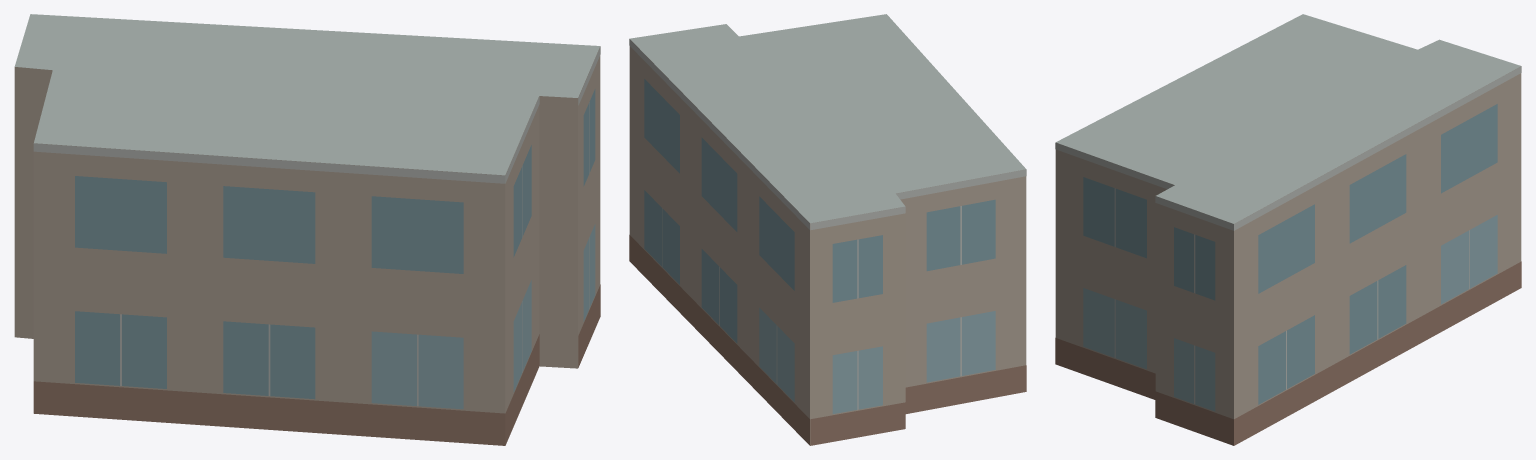
The model's file is survey-upis-32640869.glb.
3 views of the same model, side by side, from view 1: azimuth 30°, elevation 25°; view 2: azimuth 150°, elevation 25°; view 3: azimuth 270°, elevation 25° (orthographic). The views are drawn at different scales.
Parts seen in each view (by area): view 1: survey-upis-32640869.tmp; view 2: survey-upis-32640869.tmp; view 3: survey-upis-32640869.tmp.
Part boxes in pixels (box(x1,y1,x2,y2)): survey-upis-32640869.tmp: box(14, 14, 600, 445); survey-upis-32640869.tmp: box(629, 14, 1026, 445); survey-upis-32640869.tmp: box(1055, 14, 1521, 445).
Size of the model in its own units: 15.84 by 7.8 by 14.85.
